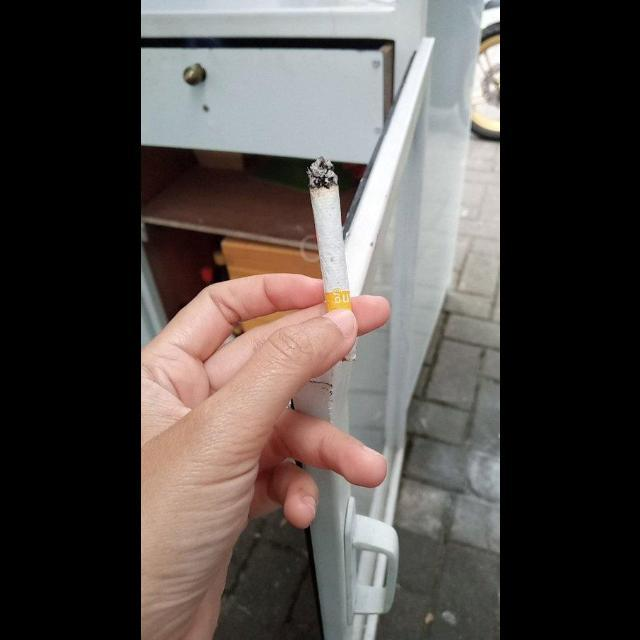rokok: (308, 154, 354, 310)
